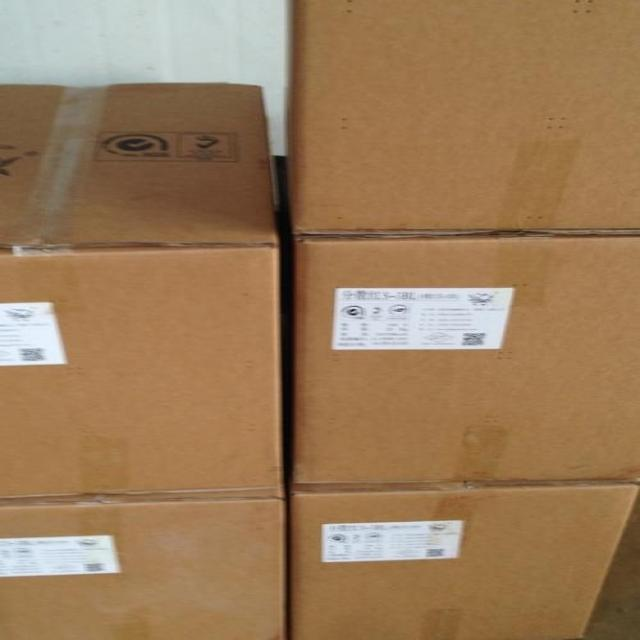box: (273, 155, 640, 496), (0, 84, 289, 505), (283, 1, 640, 236), (287, 485, 640, 639), (0, 497, 289, 640)
